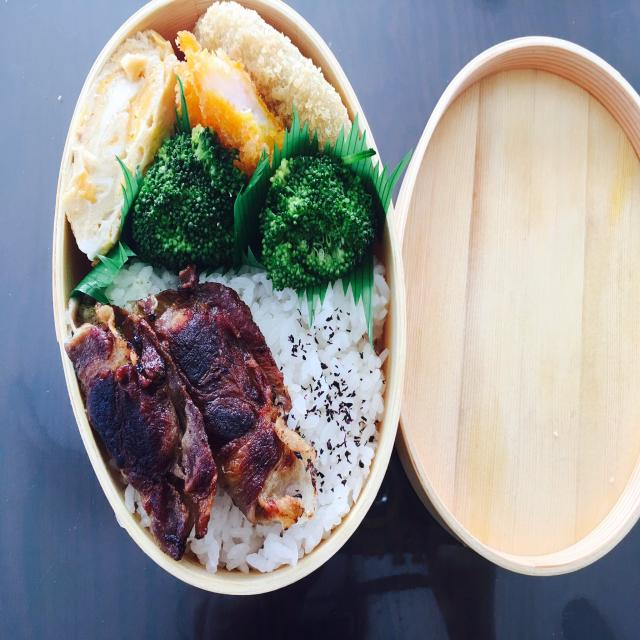overcooked pork: (123, 278, 322, 532), (57, 303, 223, 571)
